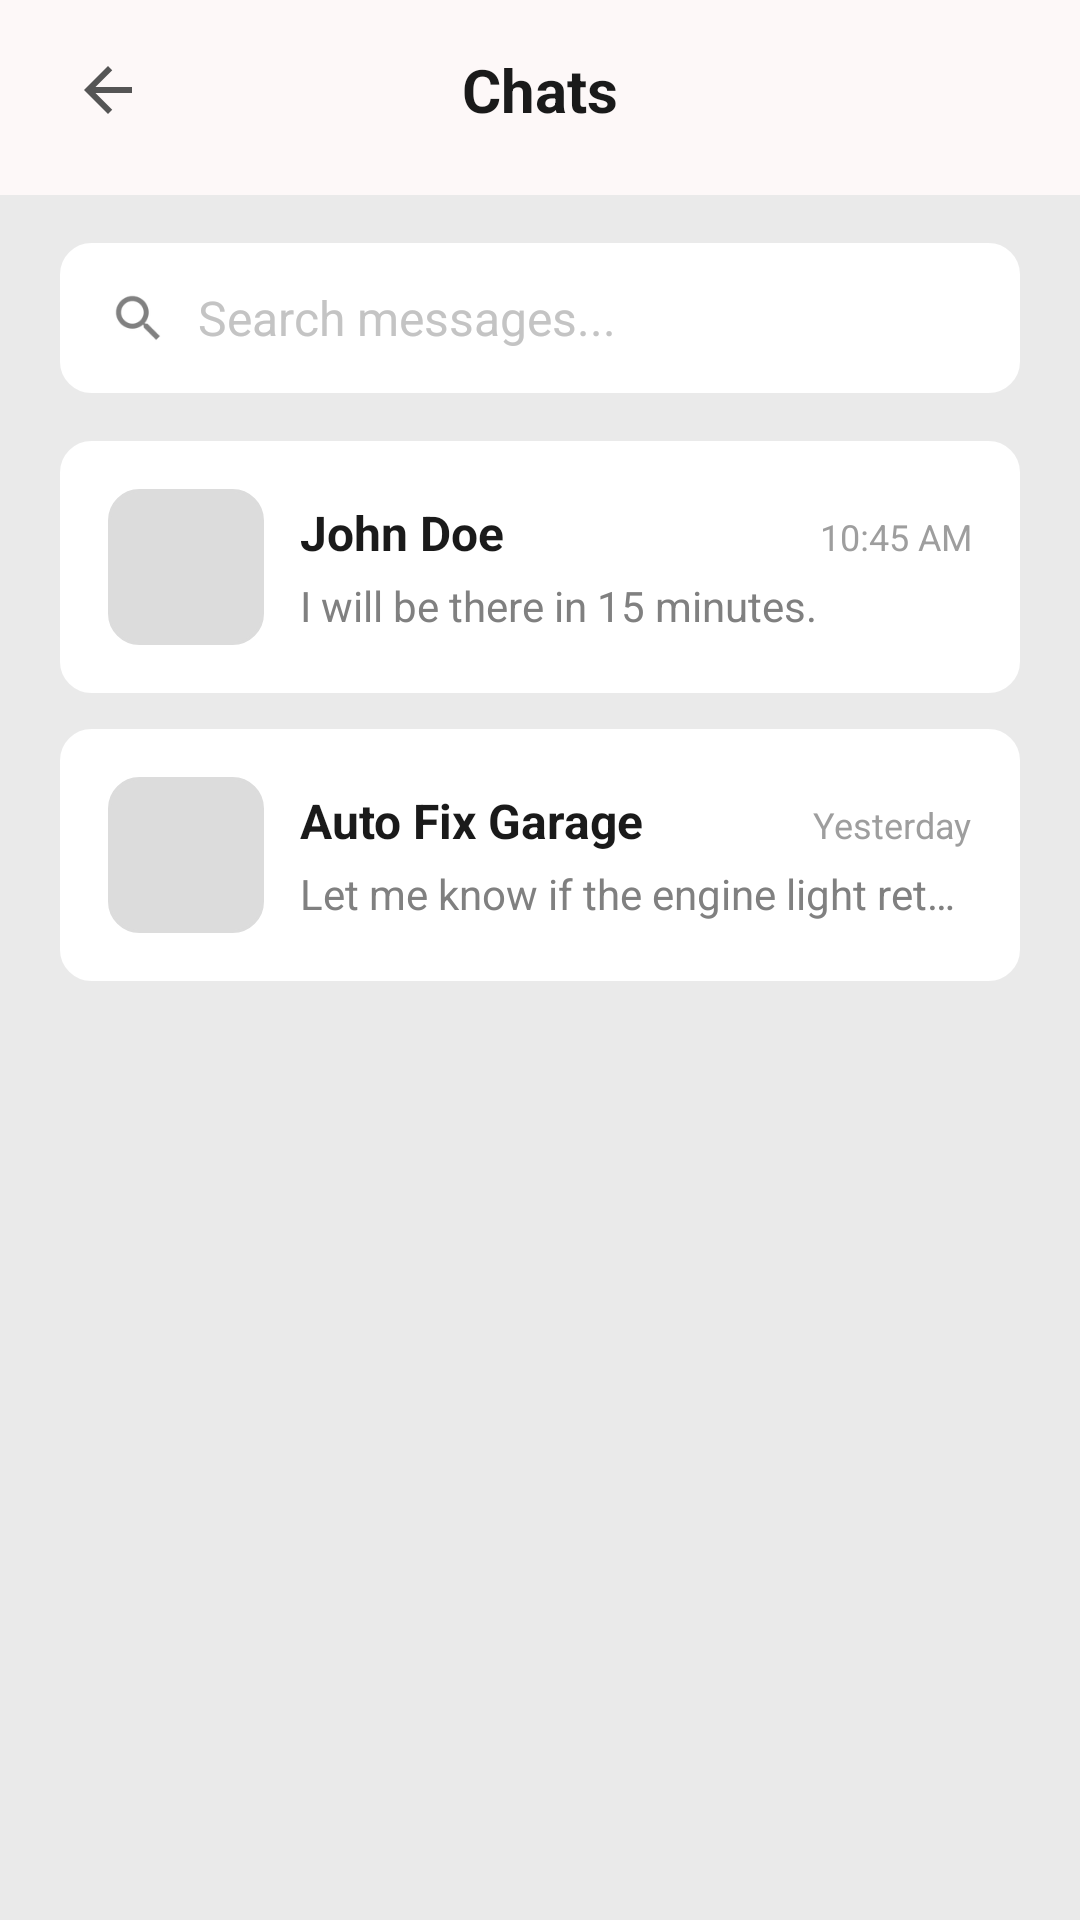

Named icons in this screenshot (1080 x 1920) and their bounding boxes, bbox=[x1, y1, x2, y2]:
back: bbox=[84, 66, 132, 114]
